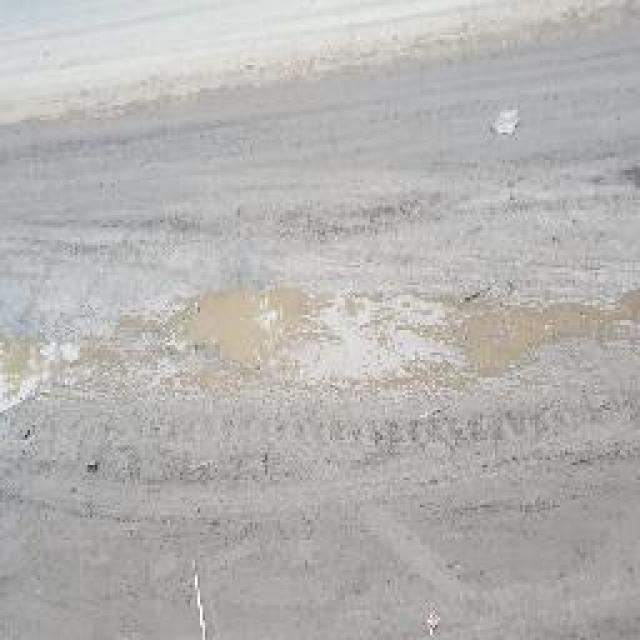stagnation: (4, 272, 639, 403)
